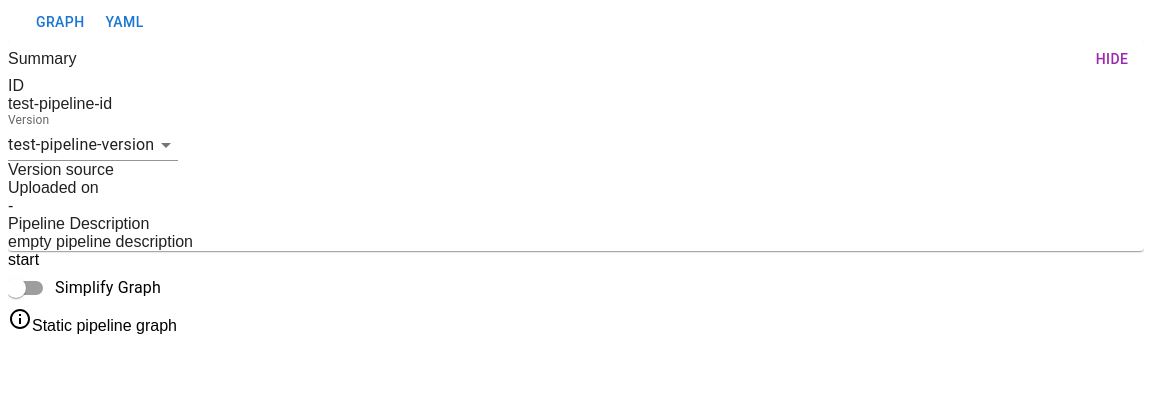
PipelineDetailsV1 › closes side panel when close button is clicked
Click the text "start" at x=24, y=260, box [8, 251, 39, 268]
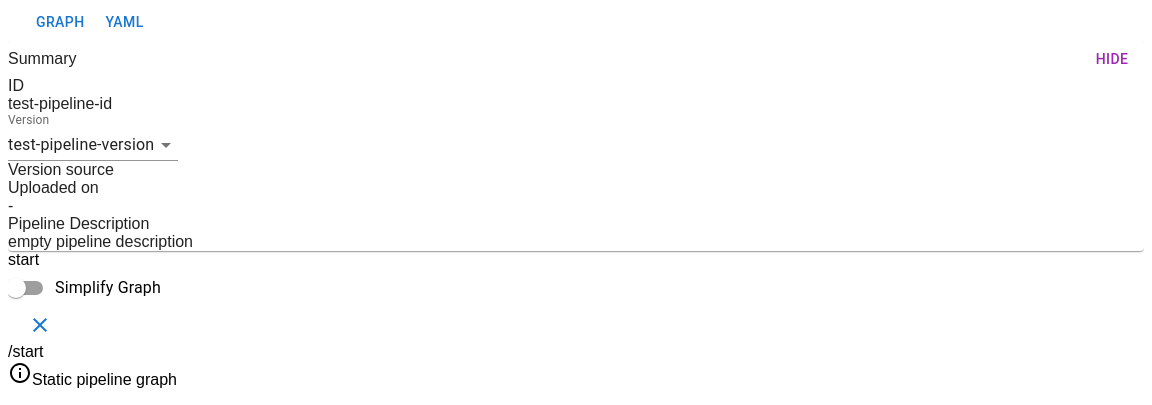
Click the button named "close" at x=40, y=325, box [8, 307, 72, 343]
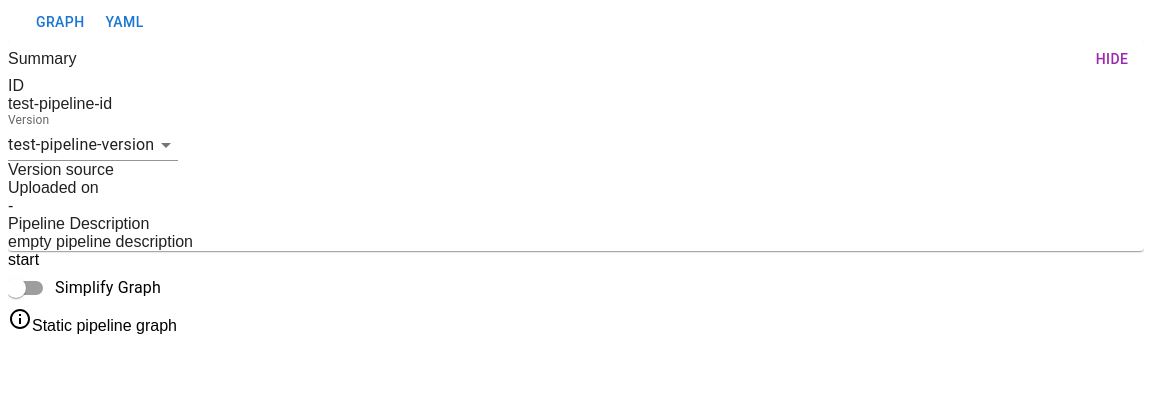
Check: the text "/start" is gone
